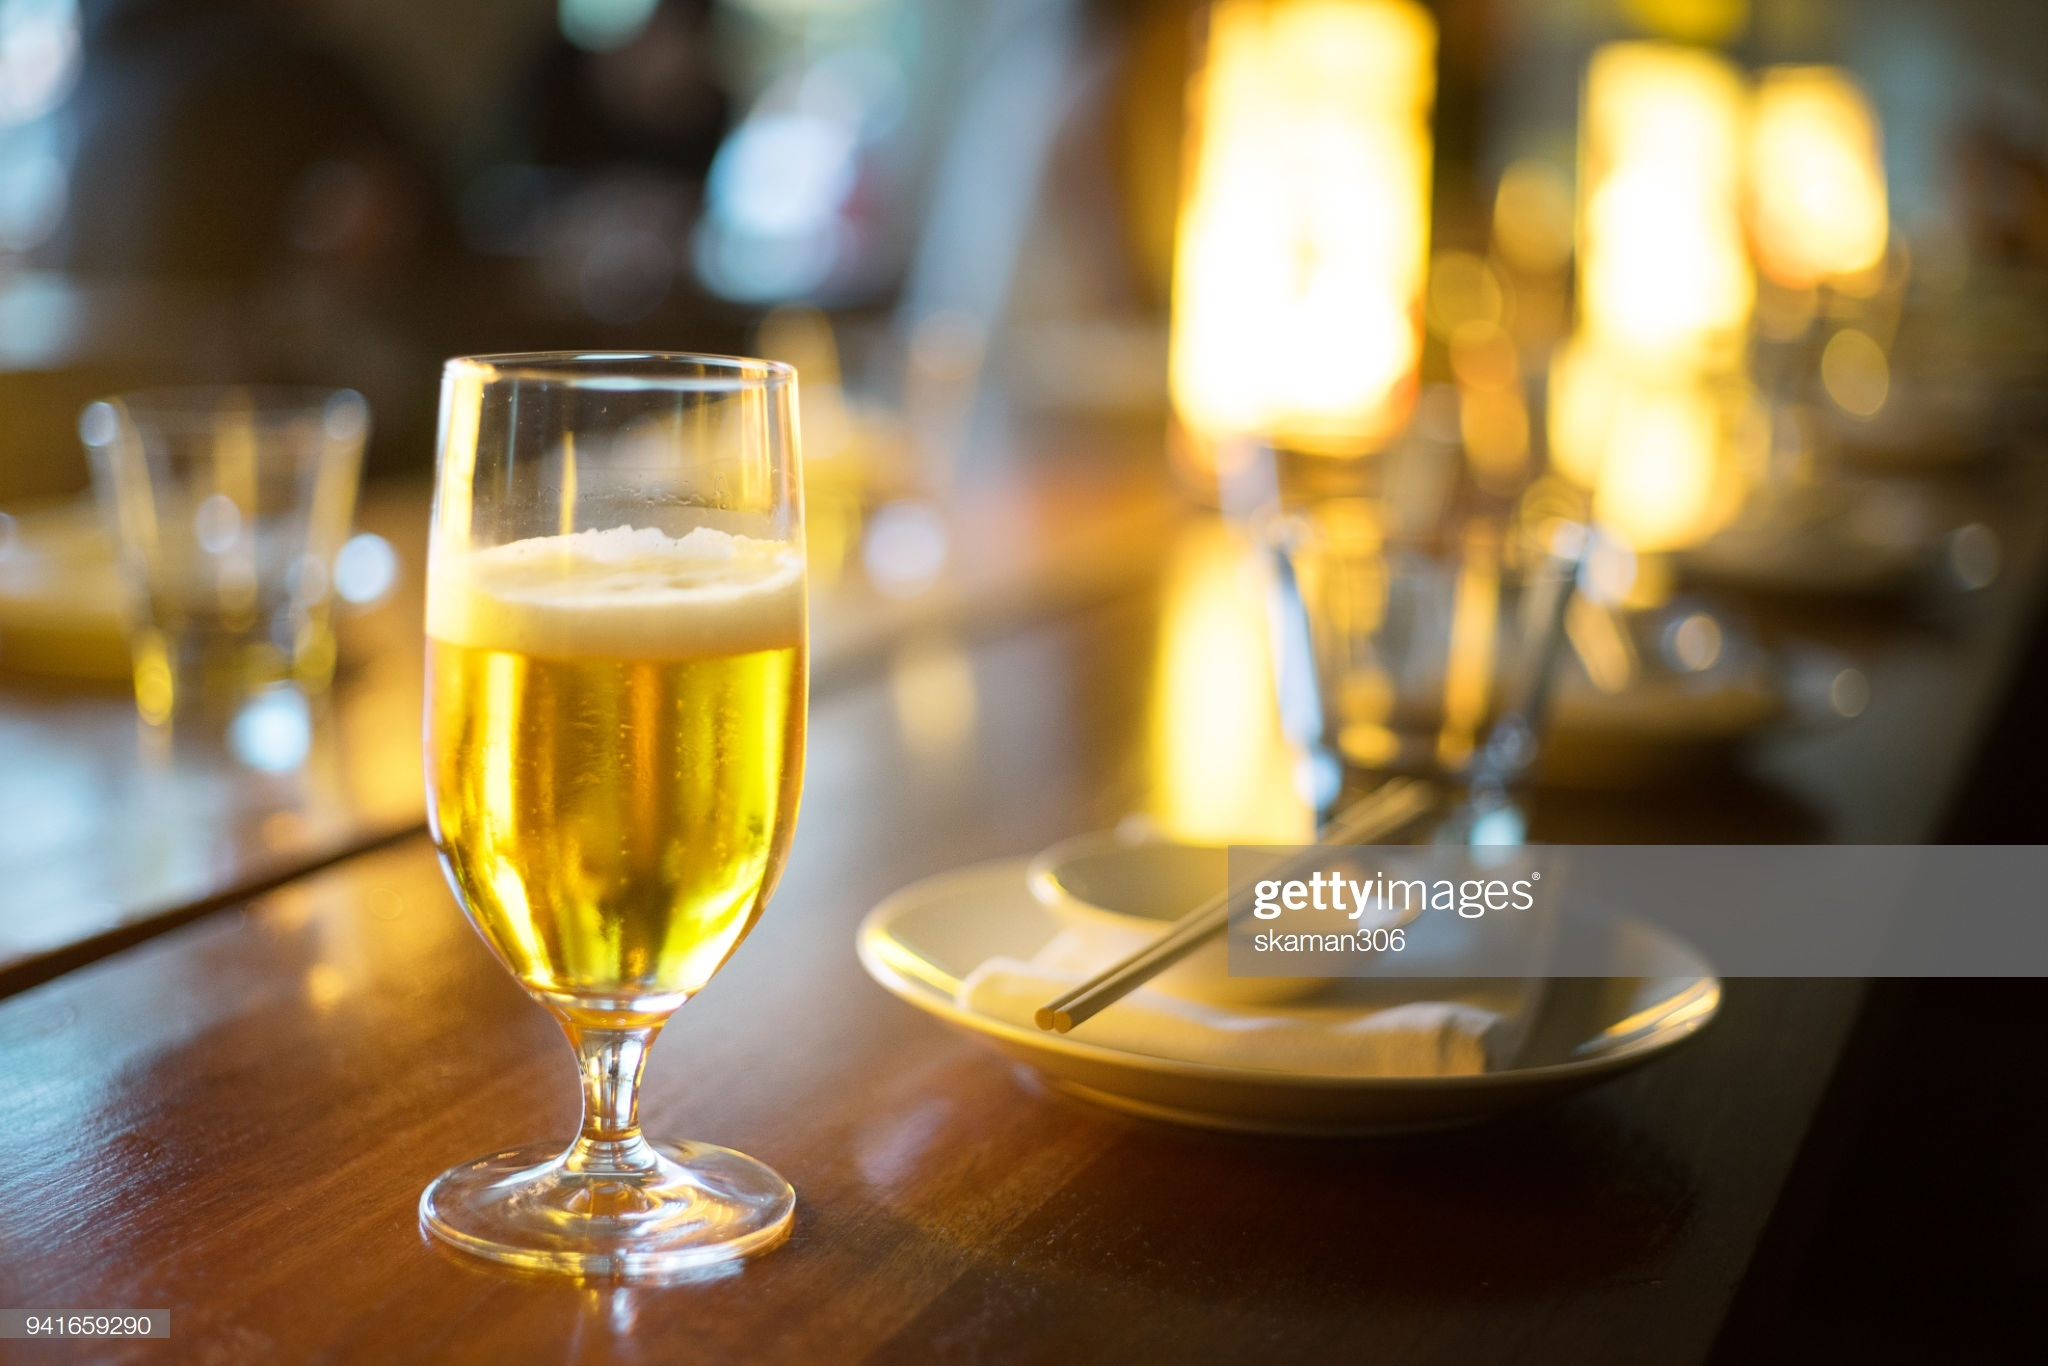glassBeer: (411, 355, 791, 1258)
